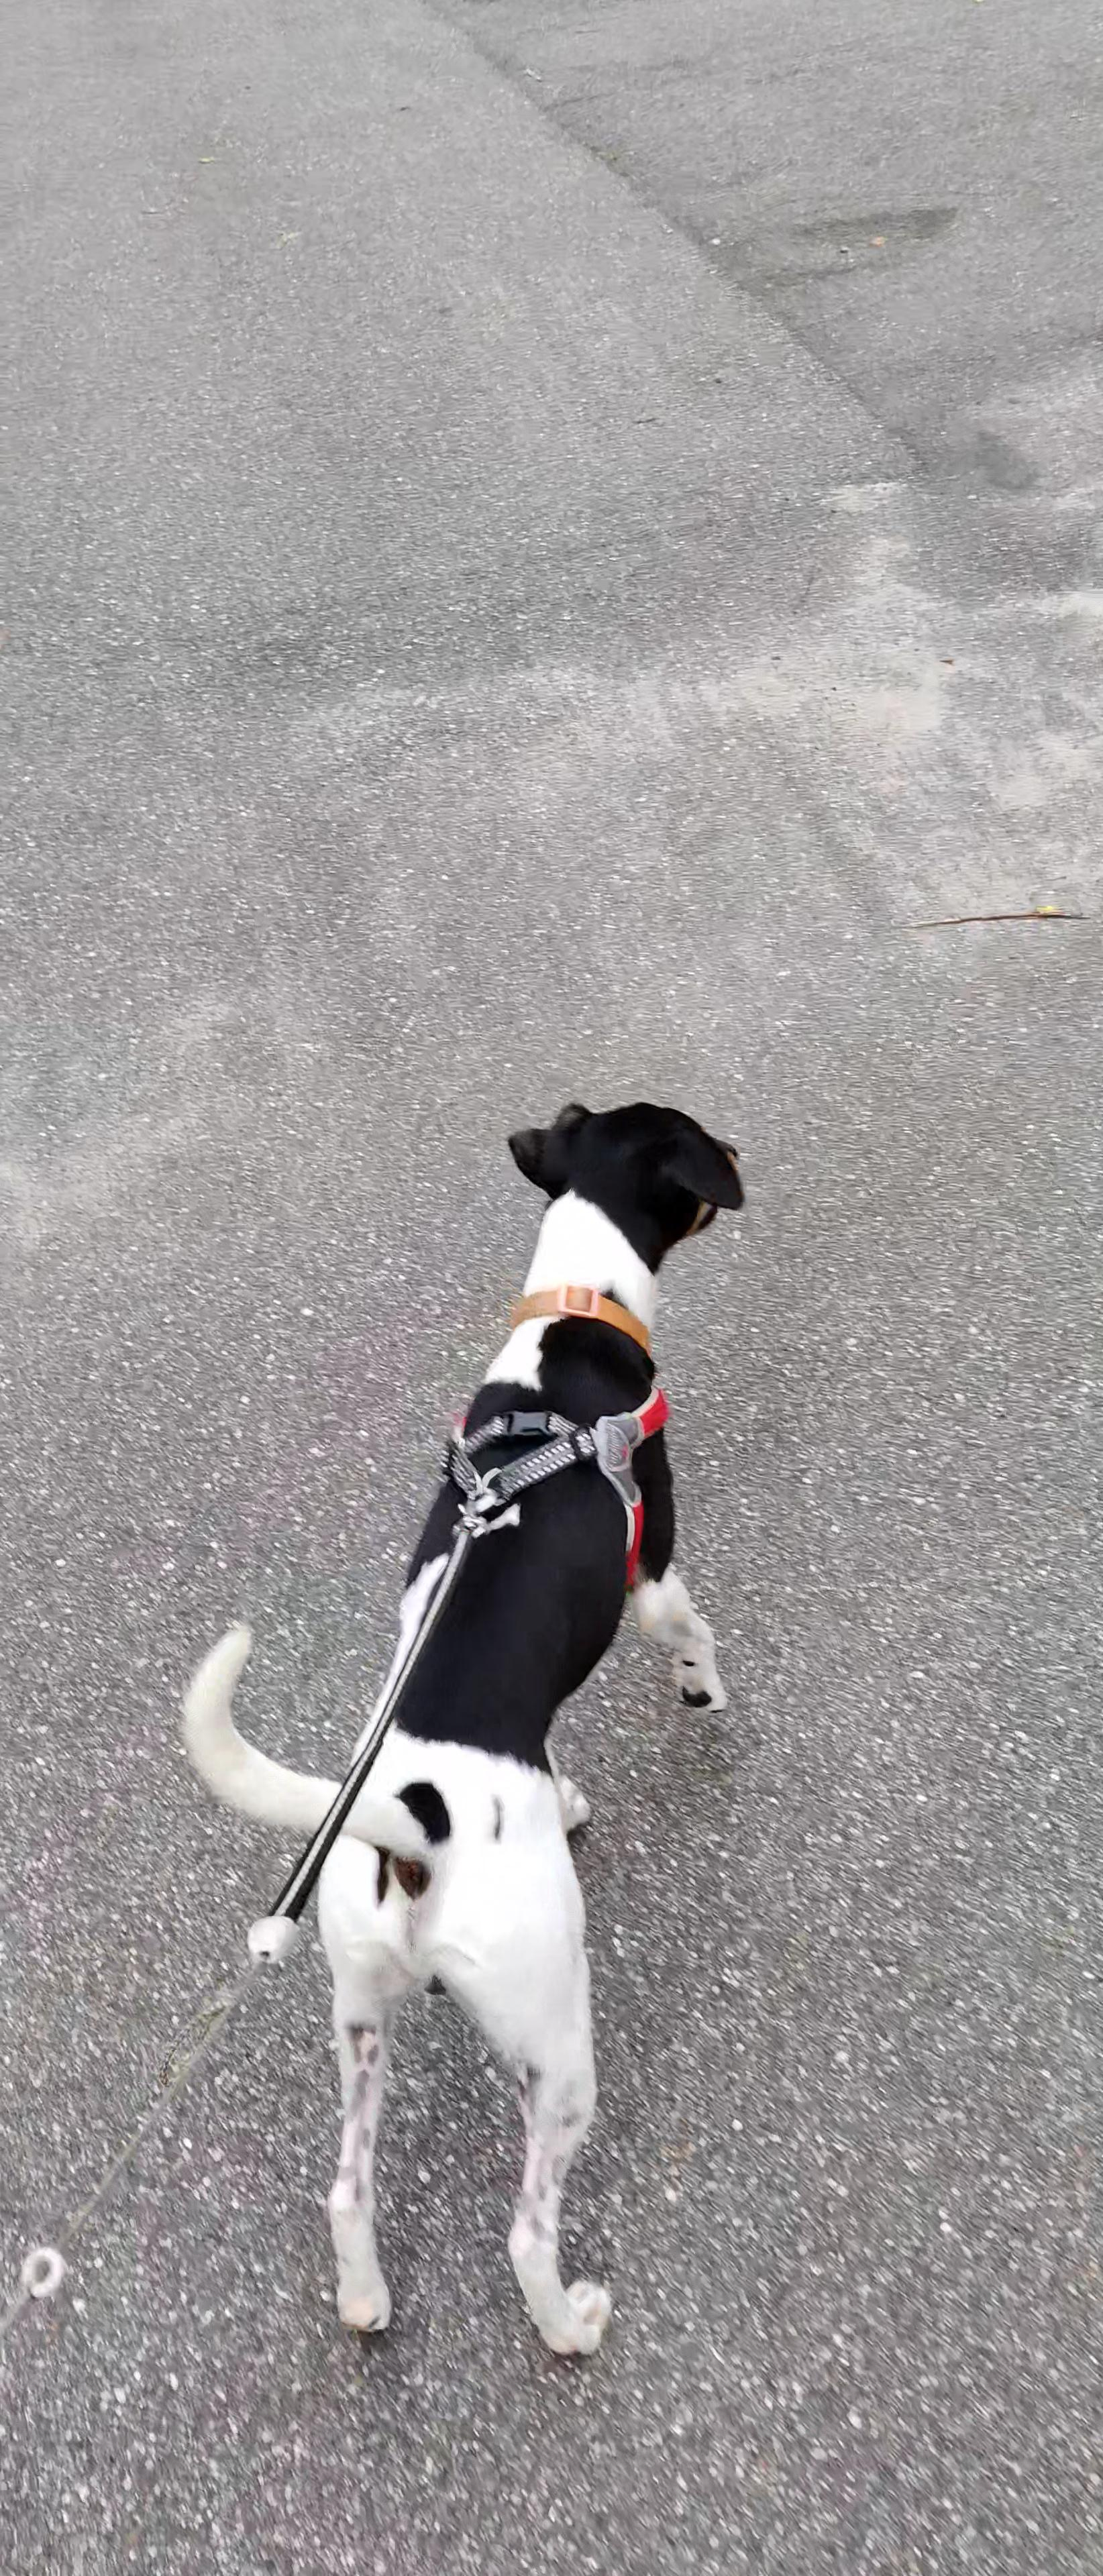Dog: (125, 1033, 856, 2362)
